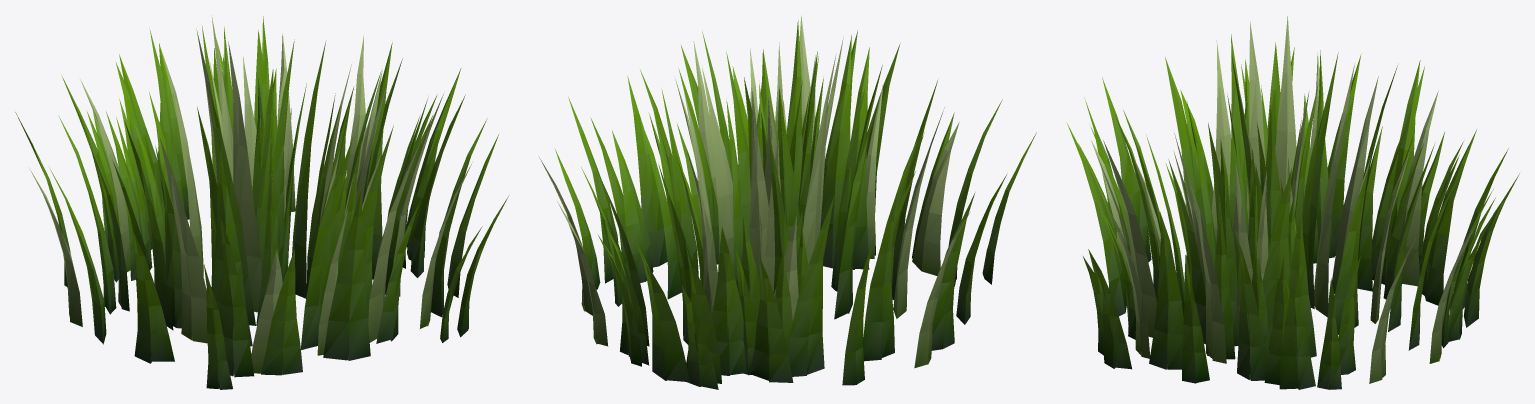
Rendered from vegetasi_grass_moss_438195.glb.
The picture shows the model from 3 angles, left to right: view 1: azimuth 30°, elevation 25°; view 2: azimuth 150°, elevation 25°; view 3: azimuth 270°, elevation 25°; orthographic projection. The views are drawn at different scales.
Parts seen in each view (by area): view 1: Rumpun_Rumput_Liar; view 2: Rumpun_Rumput_Liar; view 3: Rumpun_Rumput_Liar.
Boxes of the visible parts, bbox=[...] form: Rumpun_Rumput_Liar: bbox=[15, 15, 508, 389]; Rumpun_Rumput_Liar: bbox=[539, 15, 1036, 389]; Rumpun_Rumput_Liar: bbox=[1067, 16, 1519, 389].
Size of the model in its own units: 3.11 by 1.98 by 3.01.
